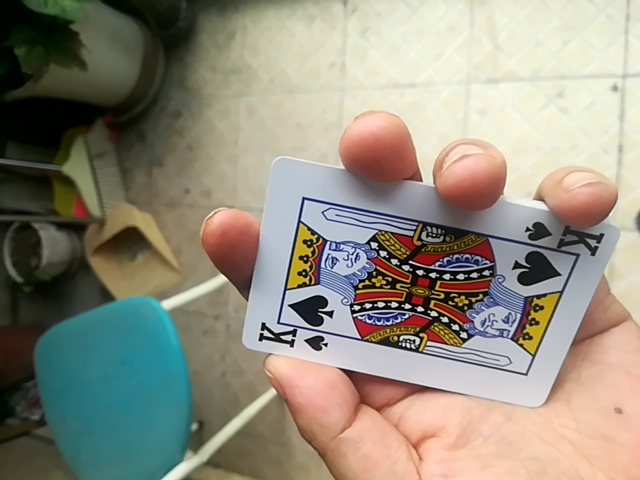ht k: (232, 138, 624, 408)
